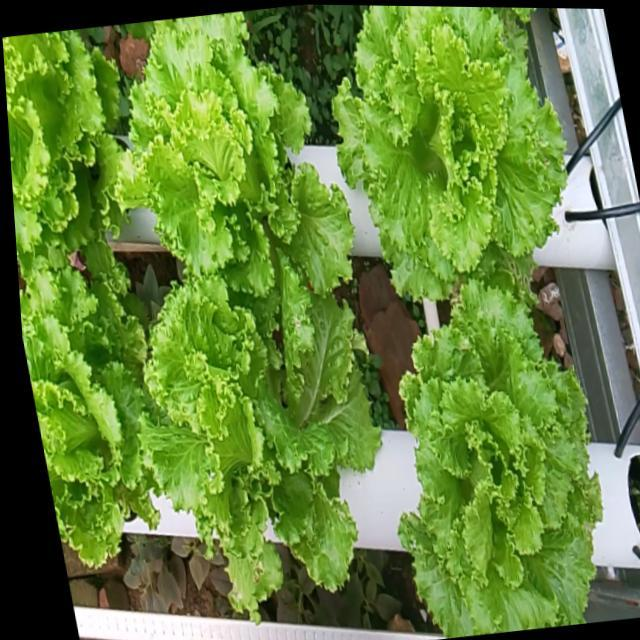Mature: (139, 291, 404, 633), (396, 281, 601, 636), (330, 5, 564, 307), (112, 12, 350, 305), (20, 277, 154, 580), (2, 30, 117, 300)
